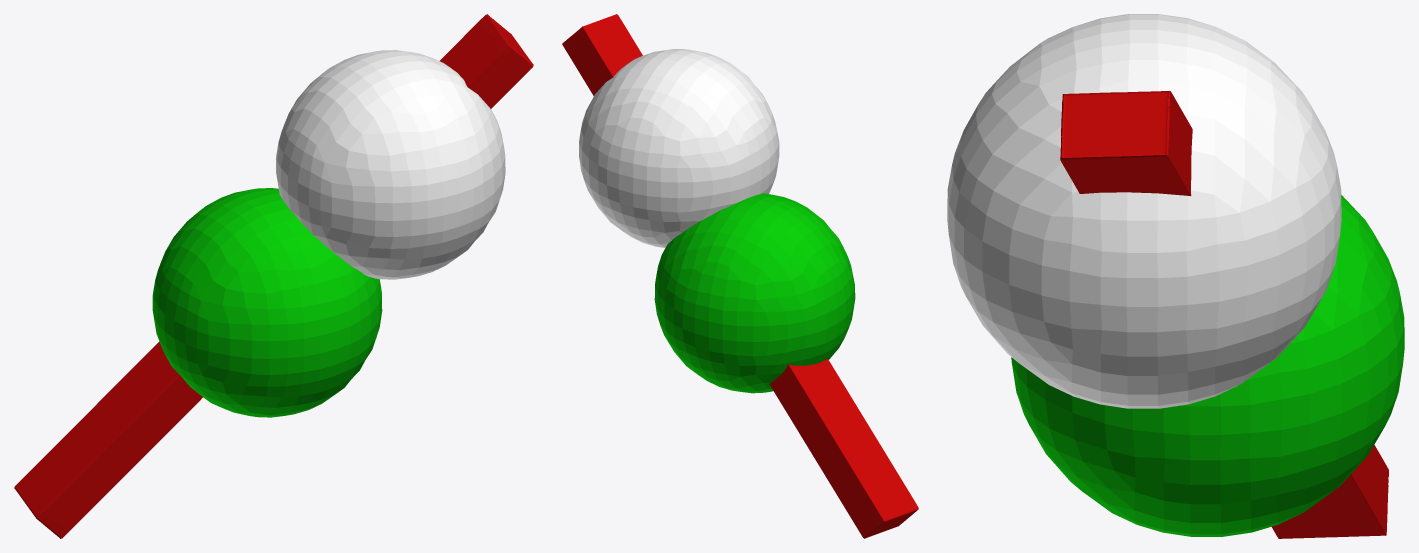
Rendered from dango2.obj.
3 views of the same model, side by side, from view 1: azimuth 30°, elevation 25°; view 2: azimuth 150°, elevation 25°; view 3: azimuth 270°, elevation 25° (orthographic). The views are drawn at different scales.
Parts seen in each view (by area): view 1: SubTool-11-10345579.008, SubTool-12-10345579.008, SubTool-9-13009072.008; view 2: SubTool-12-10345579.008, SubTool-11-10345579.008, SubTool-9-13009072.008; view 3: SubTool-11-10345579.008, SubTool-12-10345579.008, SubTool-9-13009072.008.
Part boxes in pixels (x1,y1,x2,y2): SubTool-11-10345579.008: [276, 50, 505, 279]; SubTool-12-10345579.008: [152, 188, 382, 417]; SubTool-9-13009072.008: [14, 14, 533, 538]; SubTool-12-10345579.008: [654, 193, 855, 393]; SubTool-11-10345579.008: [579, 49, 779, 247]; SubTool-9-13009072.008: [562, 14, 918, 538]; SubTool-11-10345579.008: [947, 14, 1341, 408]; SubTool-12-10345579.008: [1011, 195, 1404, 536]; SubTool-9-13009072.008: [1060, 90, 1388, 538].
Bounding box in the file's own units: 0.714 × 0.6984 × 0.3711.
